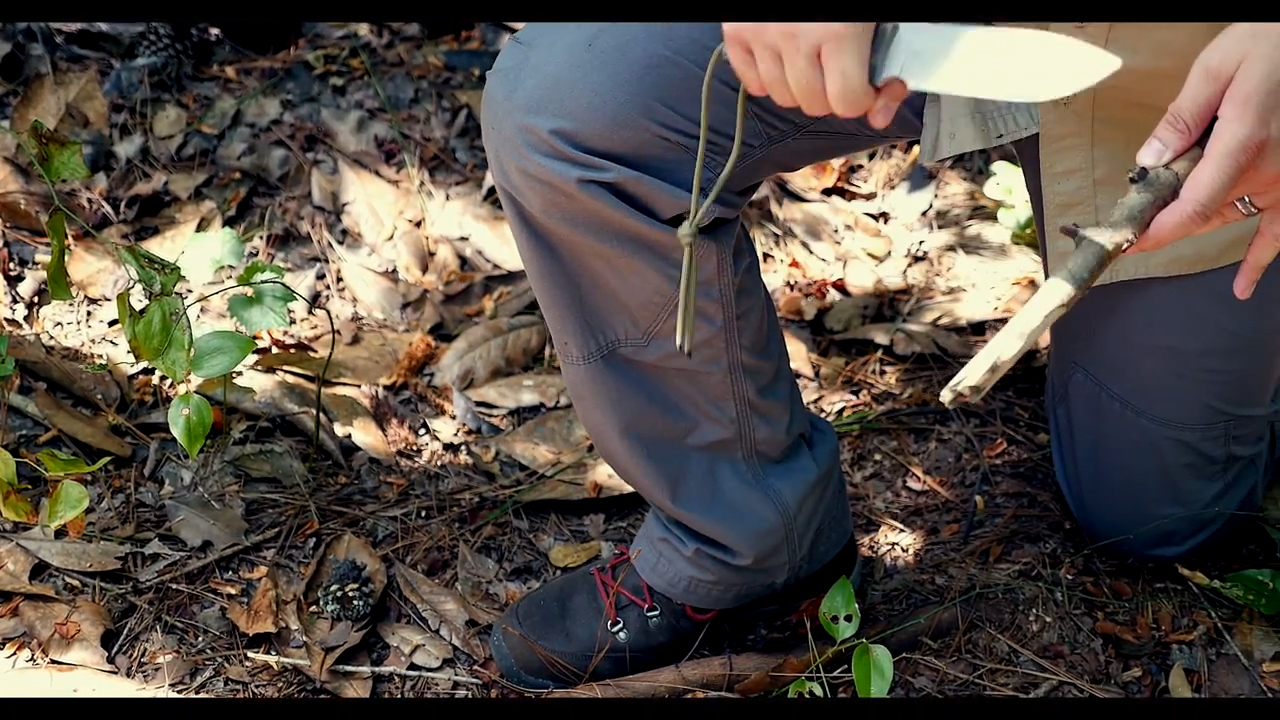knife: (810, 23, 1131, 142)
